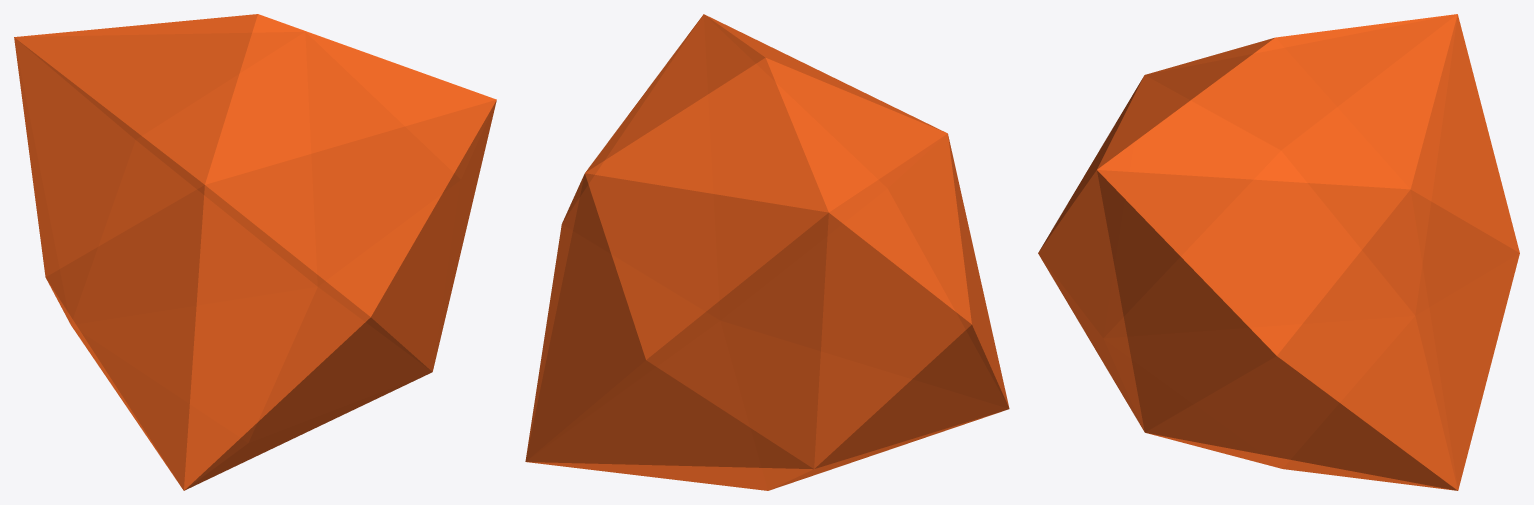
The model's file is HexakisTetrahedron_na1.obj.
3 renders of one model, left to right at view 1: azimuth 30°, elevation 25°; view 2: azimuth 150°, elevation 25°; view 3: azimuth 270°, elevation 25°, orthographic.
Size of the model in its own units: 9.9 by 9.85 by 9.9.
